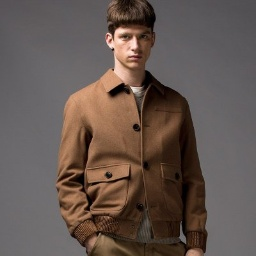face: (104, 1, 157, 69)
